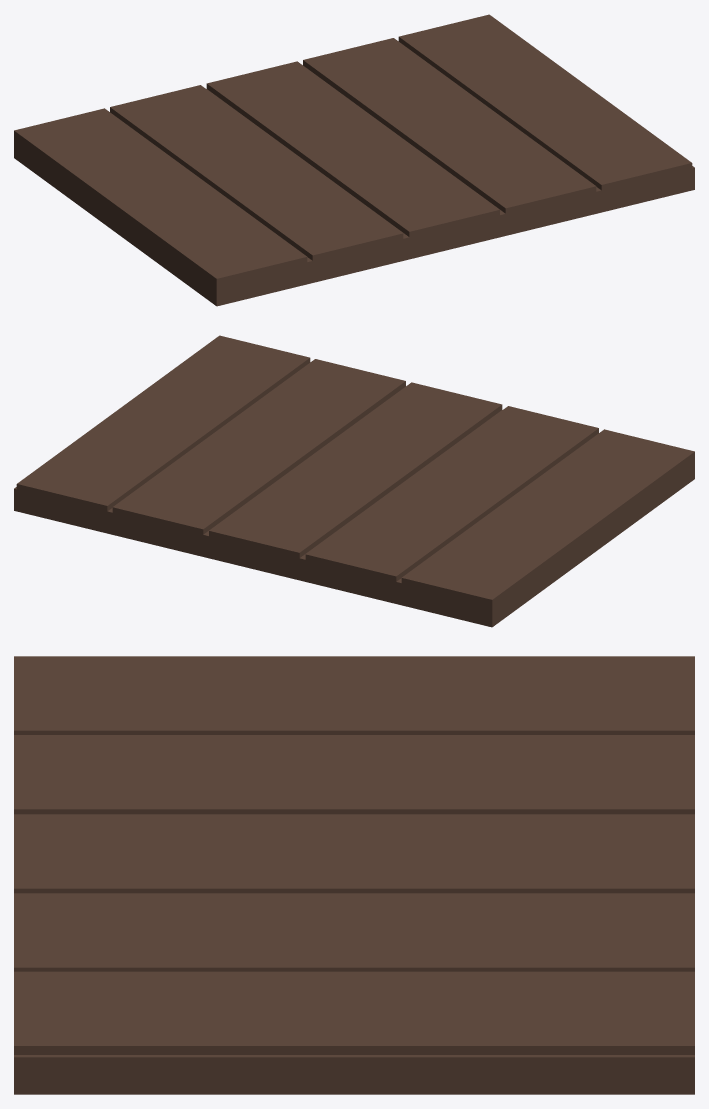
File: sol.FBX
The picture shows the model from 3 angles, top to bottom: view 1: azimuth 30°, elevation 25°; view 2: azimuth 150°, elevation 25°; view 3: azimuth 270°, elevation 25°; orthographic projection. The views are drawn at different scales.
Visible parts, largest first — view 1: sol; view 2: sol; view 3: sol.
Boxes of the visible parts, <box> form: sol: <box>14,14,694,306</box>; sol: <box>14,335,694,627</box>; sol: <box>14,656,694,1094</box>.
Size of the model in its own units: 138 by 7.6 by 101.
Materials: 1 (1 with a texture image).
